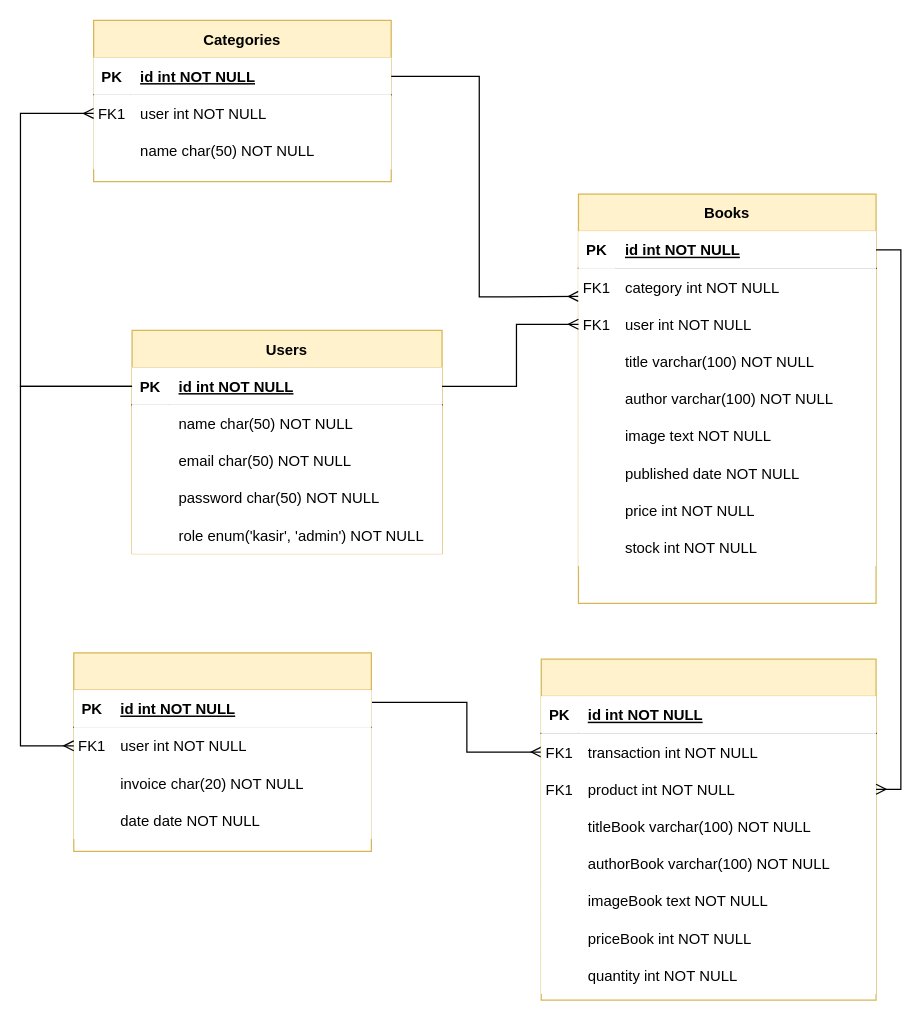
The diagram is 921 pixels wide and 1021 high, and some of its shapes have lost their labels. The shapes that lost their labels are listed below. From the top down, each one's box as (x1, y1, x2, y2) in pixels, then its label:
(73, 652, 371, 851): Transaction
(540, 658, 876, 1000): DetailTransaction
